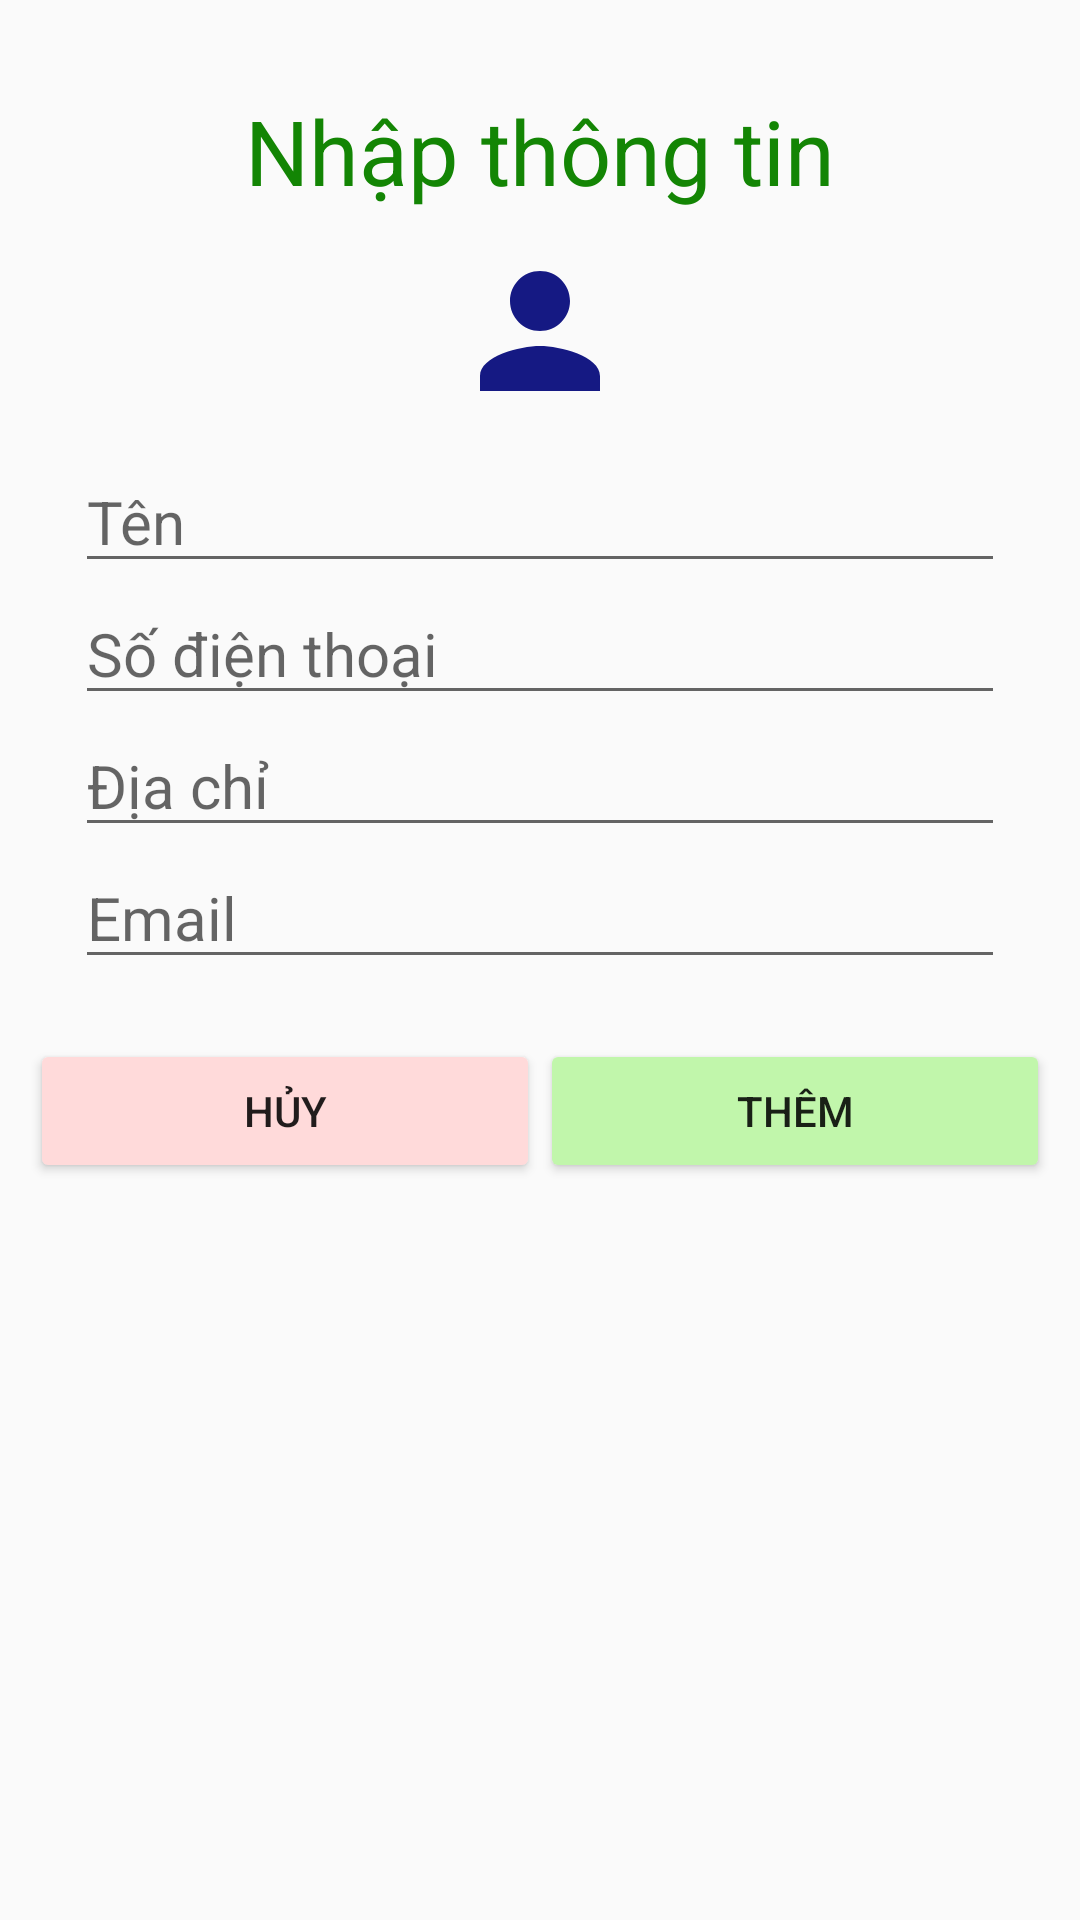

Icons on this 1080px x 1920px Android screen, each with its box as (x1, y1, x2, y2):
person: (480, 271, 600, 391)
